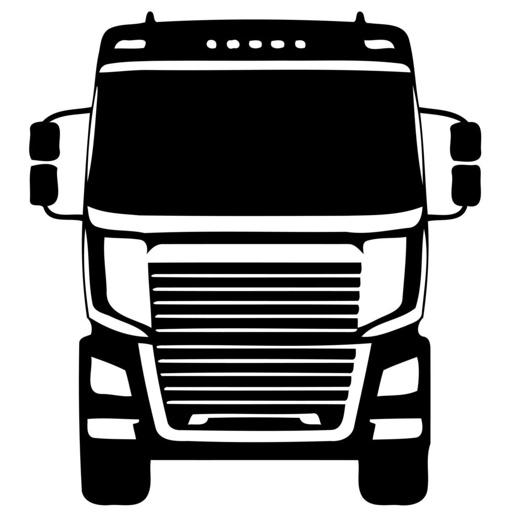truck: (30, 10, 484, 505)
